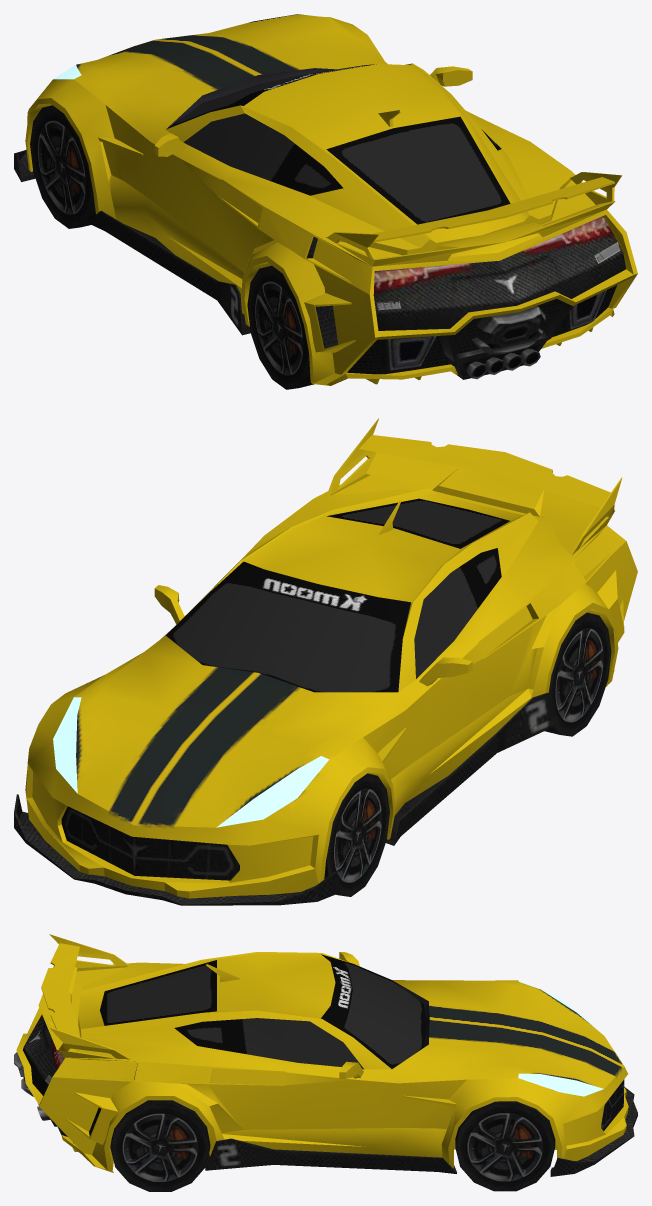
File: car_60.glb
The picture shows the model from 3 angles, top to bottom: view 1: azimuth 30°, elevation 25°; view 2: azimuth 150°, elevation 25°; view 3: azimuth 270°, elevation 25°; orthographic projection. The views are drawn at different scales.
Parts seen in each view (by area): view 1: car_60; view 2: car_60; view 3: car_60.
Part boxes in pixels (x1,y1,x2,y2): car_60: (14, 14, 637, 389); car_60: (14, 418, 637, 905); car_60: (14, 934, 637, 1191).
Size of the model in its own units: 22.37 by 14.5 by 48.15.
Materials: 11 (11 with a texture image).
